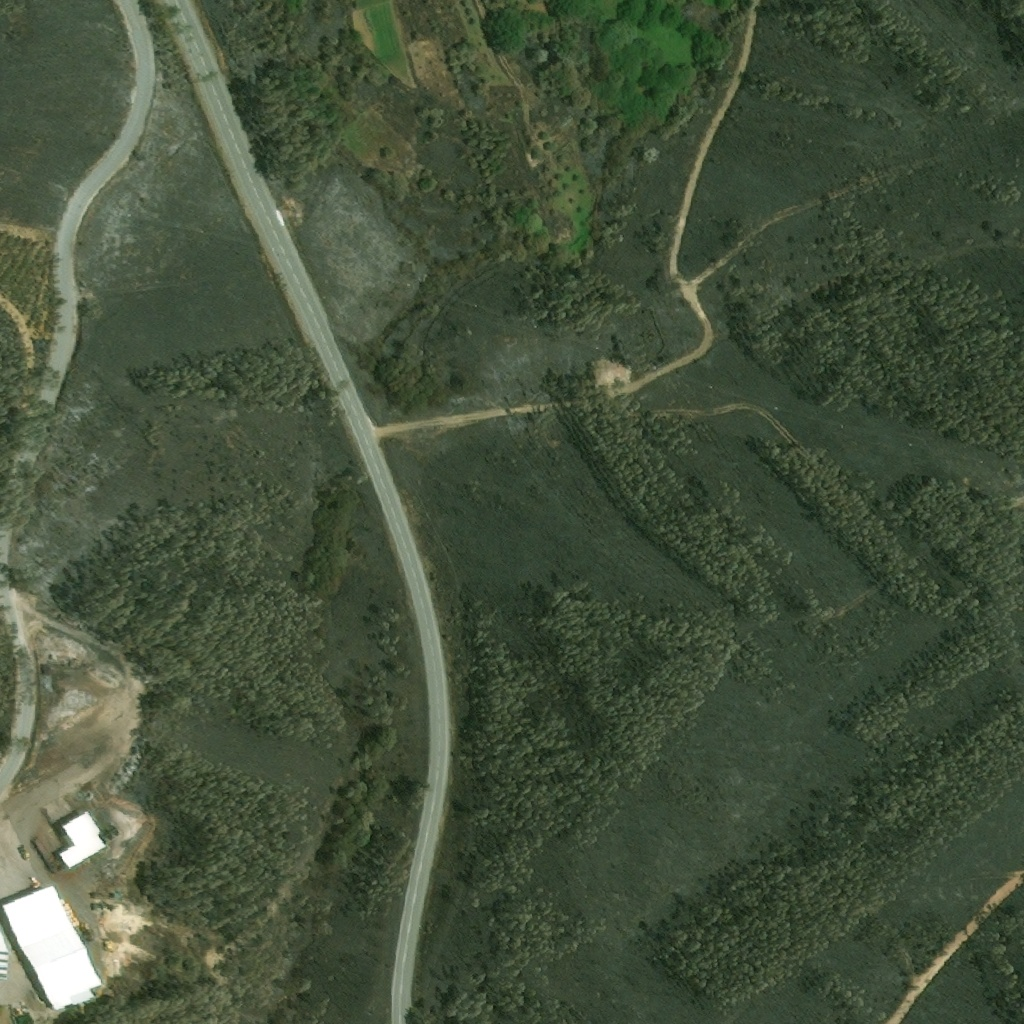0 no-damage: (2, 880, 103, 1015), (59, 809, 106, 869)
4 un-classified: (0, 922, 11, 977)
